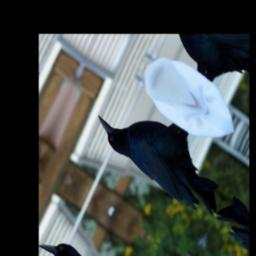Crow: (87, 81, 236, 225)
